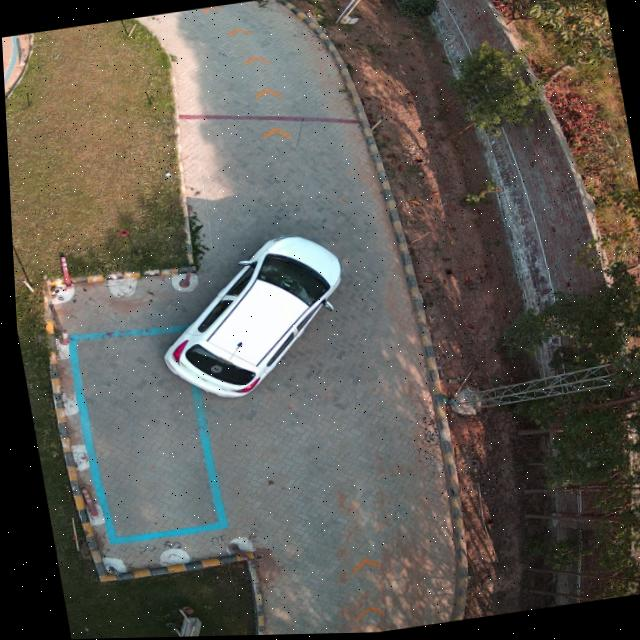car: (158, 236, 338, 399)
